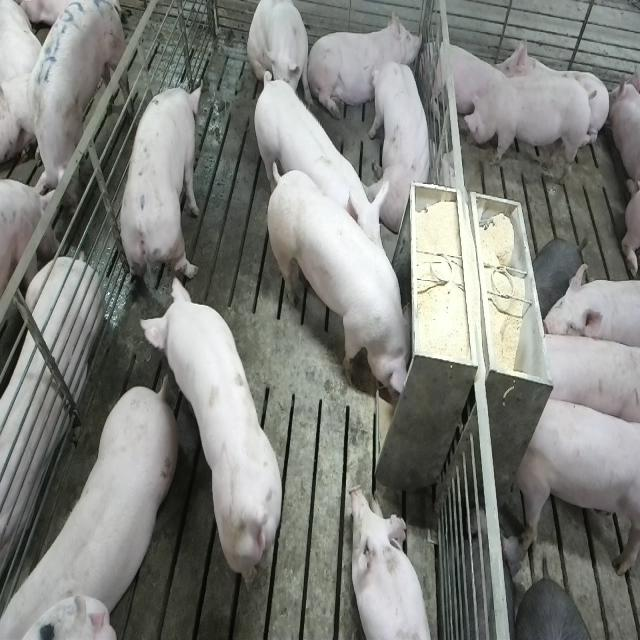Feeding: (270, 168, 422, 405)
Sitting: (371, 58, 435, 230), (248, 1, 311, 113)
Standing: (145, 275, 289, 598), (5, 376, 182, 634), (249, 71, 385, 271), (515, 388, 638, 586), (24, 0, 124, 218), (118, 80, 205, 298), (538, 332, 638, 429), (541, 268, 640, 354)
Sternal_lying: (349, 485, 433, 640), (314, 6, 422, 117), (427, 34, 513, 130)
